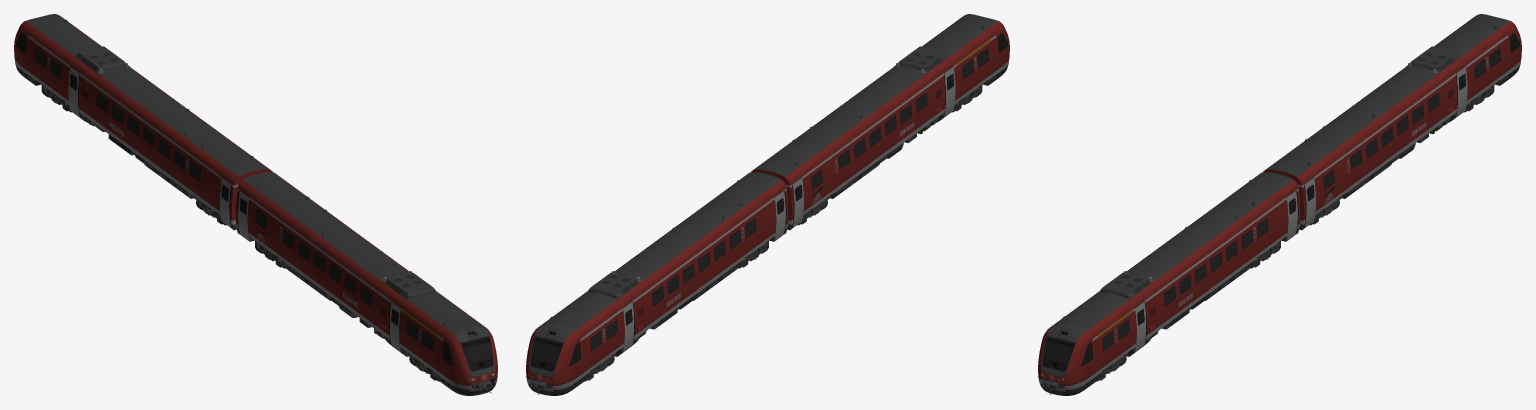
The picture shows the model from 3 angles, left to right: view 1: azimuth 30°, elevation 25°; view 2: azimuth 150°, elevation 25°; view 3: azimuth 330°, elevation 25°; orthographic projection.
Parts seen in each view (by area): view 1: rest_of_the_train; view 2: rest_of_the_train; view 3: rest_of_the_train, Door.
Boxes of the visible parts, x1,y1,x2,y2 form: rest_of_the_train: (14,14,497,395); rest_of_the_train: (526,14,1009,395); rest_of_the_train: (1038,14,1521,395); Door: (1134,301,1146,352).
Bounding box in the file's own units: 290 × 403 × 5204.
Materials: 2 (2 with a texture image).
